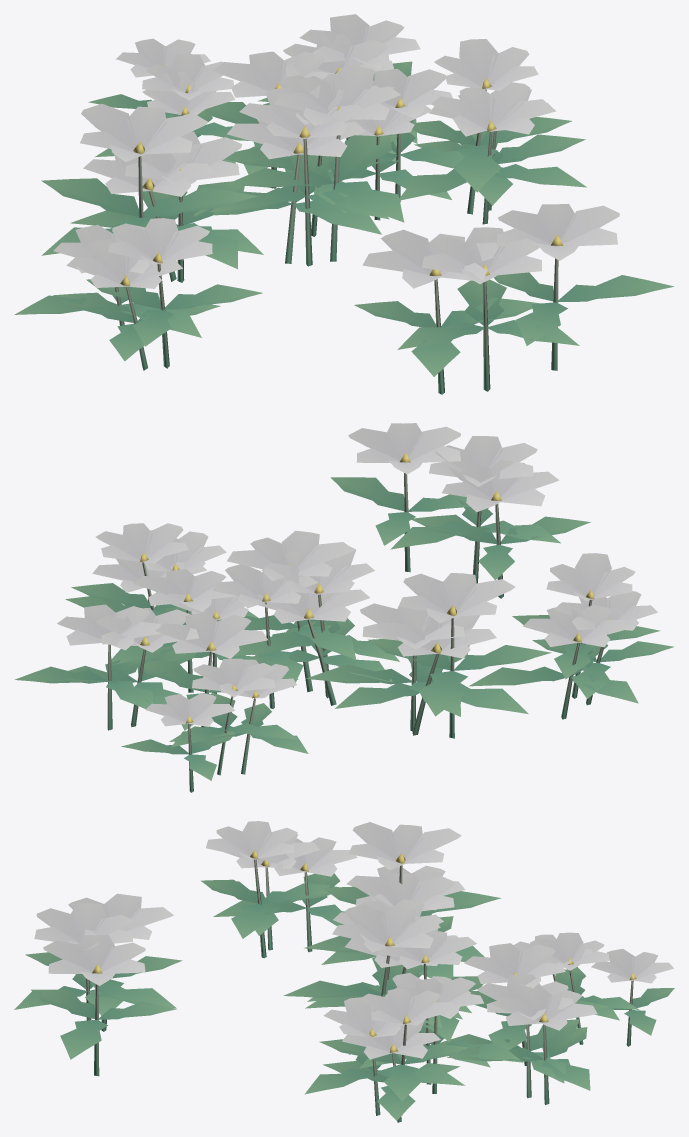
The model's file is anemone_patch_a.glb.
The picture shows the model from 3 angles, top to bottom: view 1: azimuth 30°, elevation 25°; view 2: azimuth 150°, elevation 25°; view 3: azimuth 270°, elevation 25°; orthographic projection. The views are drawn at different scales.
Visible parts, largest first — view 1: soft; view 2: soft; view 3: soft.
Boxes of the visible parts, bbox=[...] form: soft: bbox=[14, 14, 674, 394]; soft: bbox=[14, 423, 674, 792]; soft: bbox=[14, 821, 674, 1122].
Size of the model in its own units: 0.8155 by 0.213 by 0.9118.
